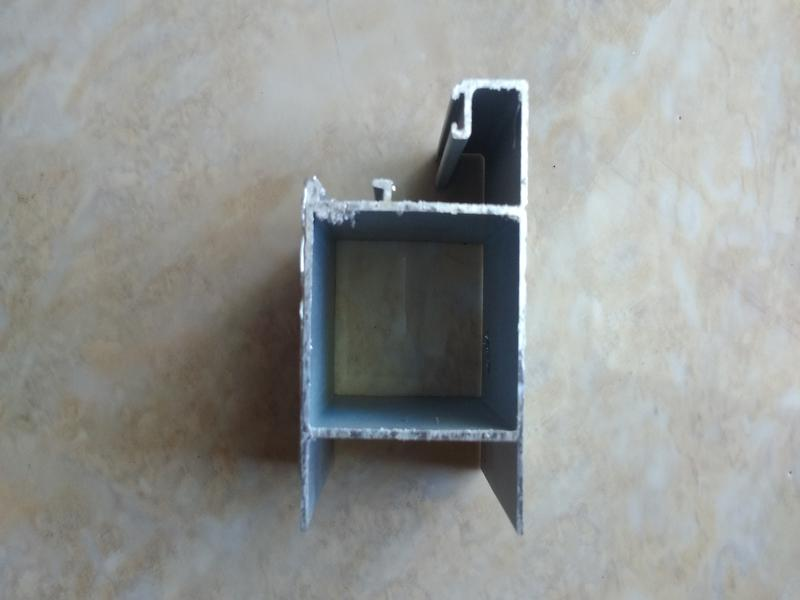Aluminium_2: (265, 63, 574, 555)
